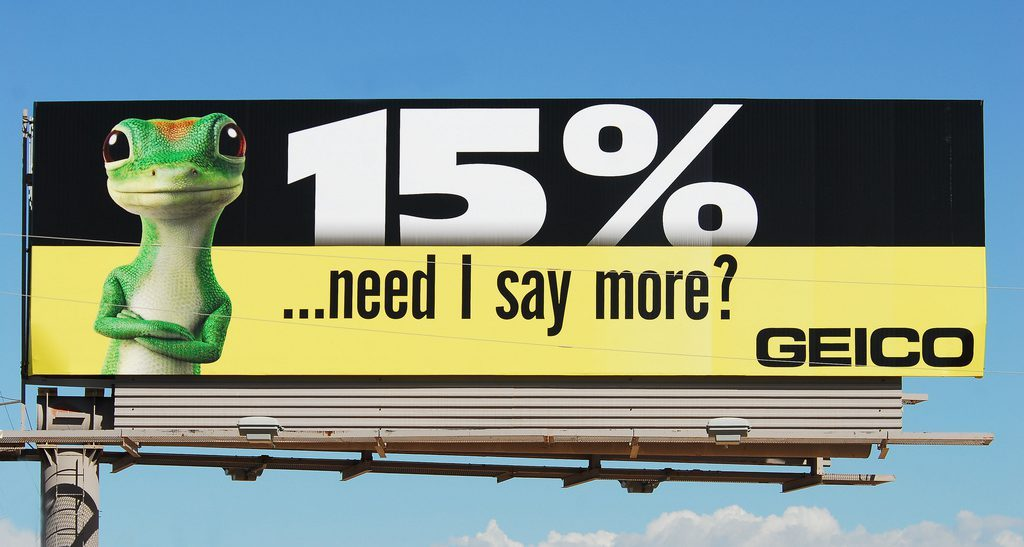geico: (753, 319, 979, 378)
